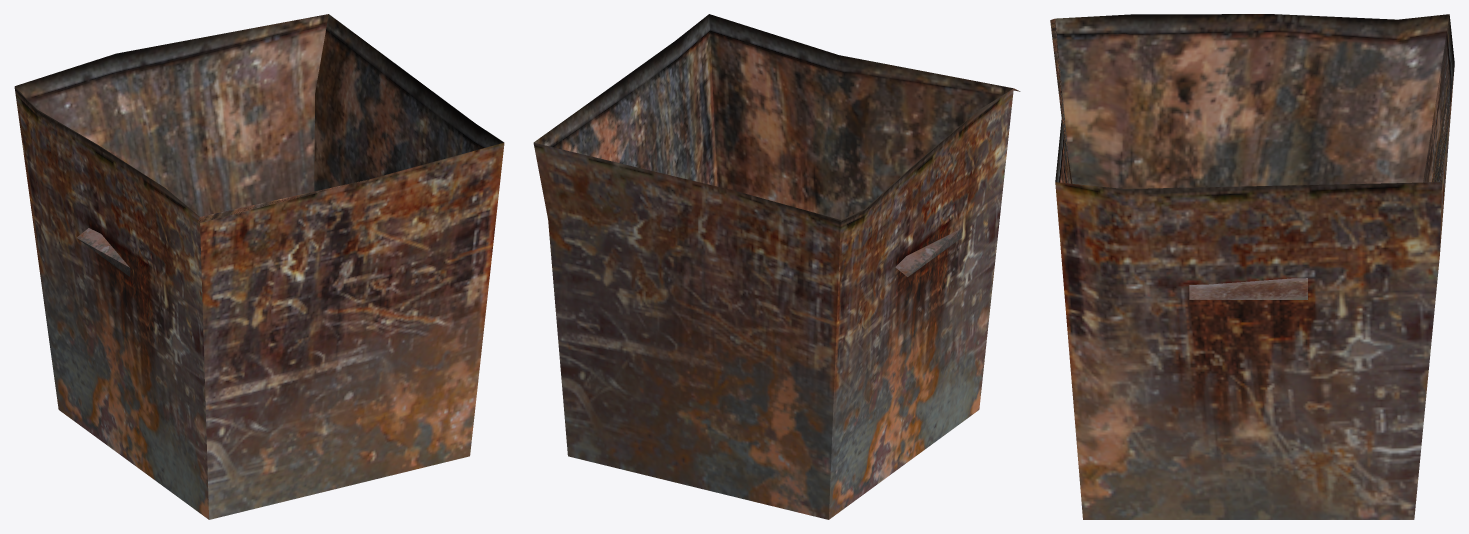
Rendered from garbage_box.FBX.
The picture shows the model from 3 angles, left to right: view 1: azimuth 30°, elevation 25°; view 2: azimuth 150°, elevation 25°; view 3: azimuth 270°, elevation 25°; orthographic projection. The views are drawn at different scales.
Parts seen in each view (by area): view 1: garbagecontainer; view 2: garbagecontainer; view 3: garbagecontainer.
Part boxes in pixels (bbox=[...]): garbagecontainer: bbox=[14, 14, 504, 519]; garbagecontainer: bbox=[533, 14, 1020, 519]; garbagecontainer: bbox=[1050, 14, 1454, 519].
Size of the model in its own units: 63.89 by 61.46 by 63.16.
